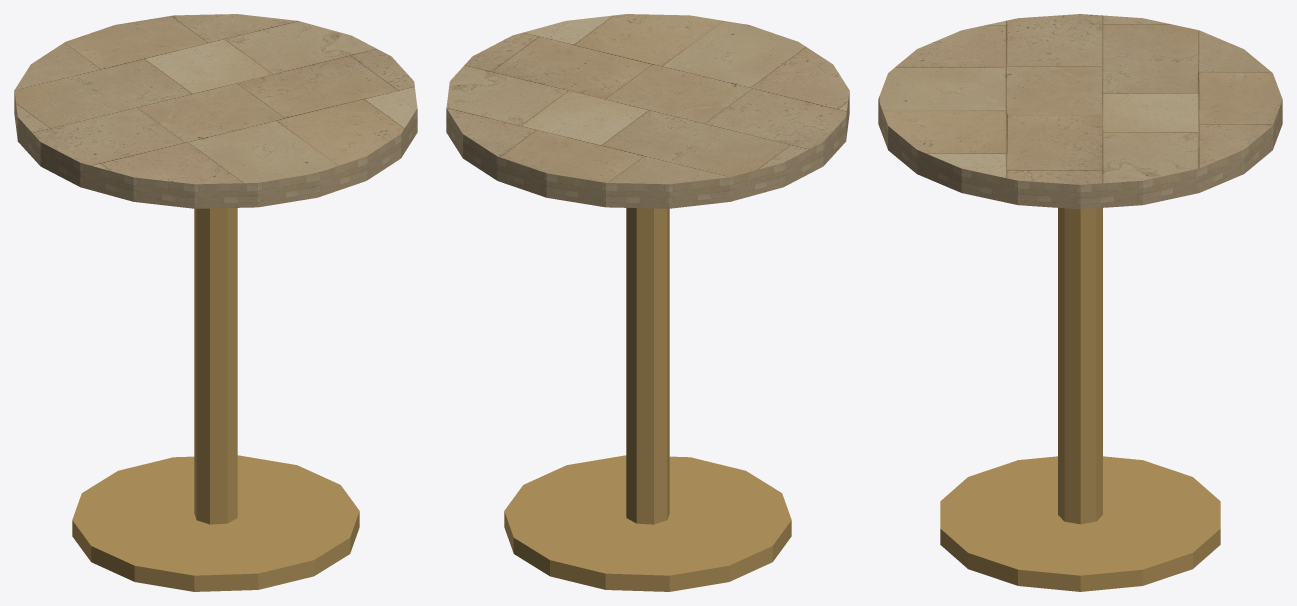
File: mesa_lateral.glb
3 views of the same model, side by side, from view 1: azimuth 30°, elevation 25°; view 2: azimuth 150°, elevation 25°; view 3: azimuth 270°, elevation 25° (orthographic).
Parts seen in each view (by area): view 1: mesa_lateral; view 2: mesa_lateral; view 3: mesa_lateral.
Part boxes in pixels (x1,y1,x2,y2): mesa_lateral: (14, 14, 417, 591); mesa_lateral: (446, 14, 849, 591); mesa_lateral: (878, 14, 1282, 591).
Size of the model in its own units: 0.45 by 0.53 by 0.45.
Materials: 2 (1 with a texture image).
